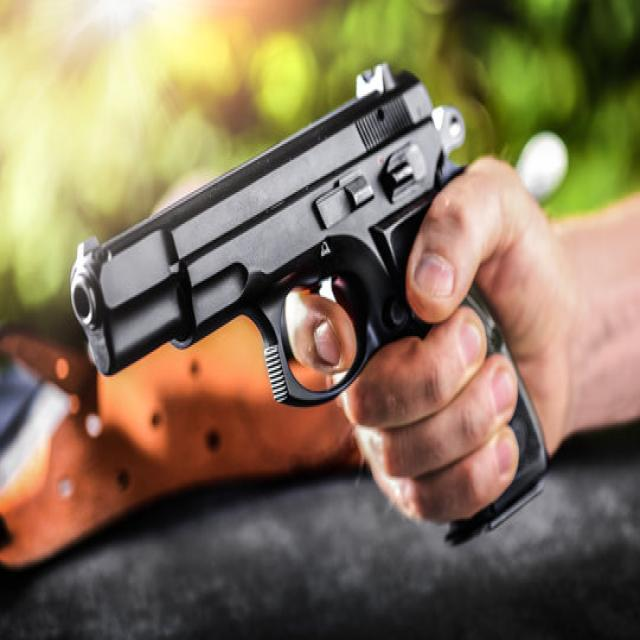HandGun: (70, 64, 466, 409)
